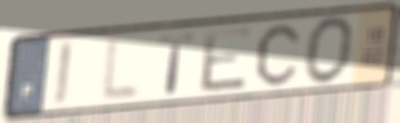C: (254, 22, 302, 88)
E: (199, 23, 255, 95)
I: (52, 37, 77, 110)
L: (97, 34, 143, 105)
O: (303, 14, 358, 87)
T: (157, 30, 198, 97)
